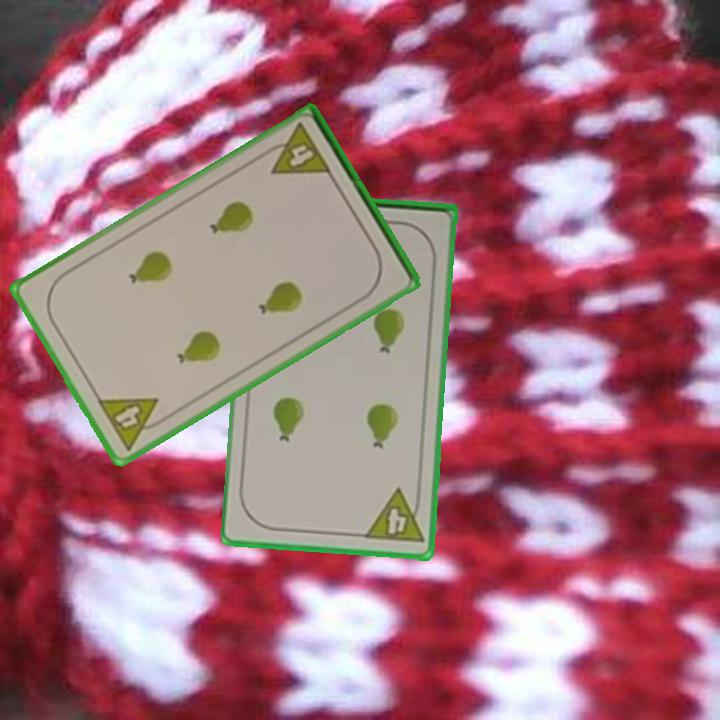4p: (93, 394, 172, 454), (258, 120, 335, 179), (361, 485, 427, 547)
